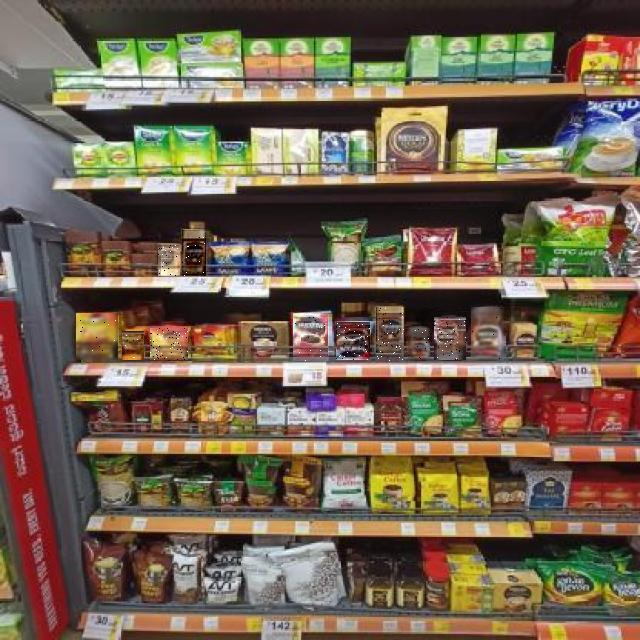Coffee: (77, 314, 119, 362), (472, 307, 506, 361), (294, 313, 332, 361), (376, 308, 404, 362), (434, 317, 466, 360), (336, 322, 370, 360), (150, 328, 188, 360), (183, 230, 207, 276), (158, 244, 180, 276), (408, 328, 430, 360), (122, 331, 144, 360)
